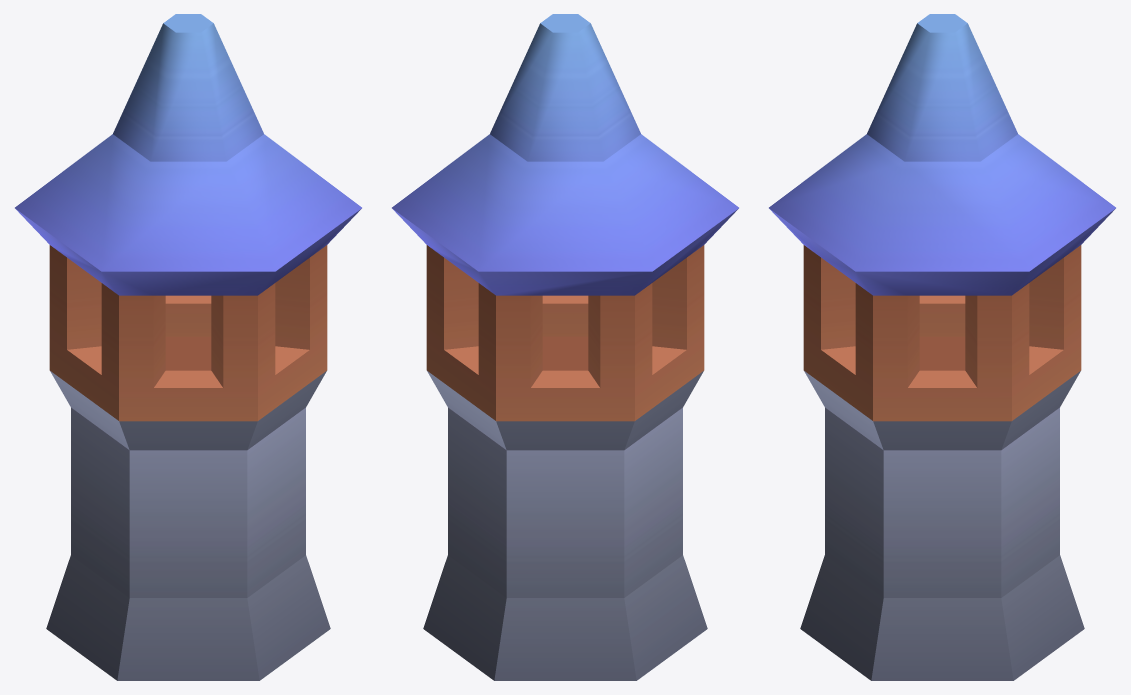
Rendered from kenney-hexagon-unit-tower.glb.
3 views of the same model, side by side, from view 1: azimuth 30°, elevation 25°; view 2: azimuth 150°, elevation 25°; view 3: azimuth 270°, elevation 25° (orthographic).
Parts seen in each view (by area): view 1: unit_tower; view 2: unit_tower; view 3: unit_tower.
Boxes of the visible parts, x1=… form: unit_tower: x1=15, y1=14, x2=361, y2=680; unit_tower: x1=392, y1=14, x2=738, y2=680; unit_tower: x1=769, y1=14, x2=1115, y2=680.
Bounding box in the file's own units: 0.3699 × 0.82 × 0.4272.
Materials: 1 (1 with a texture image).
